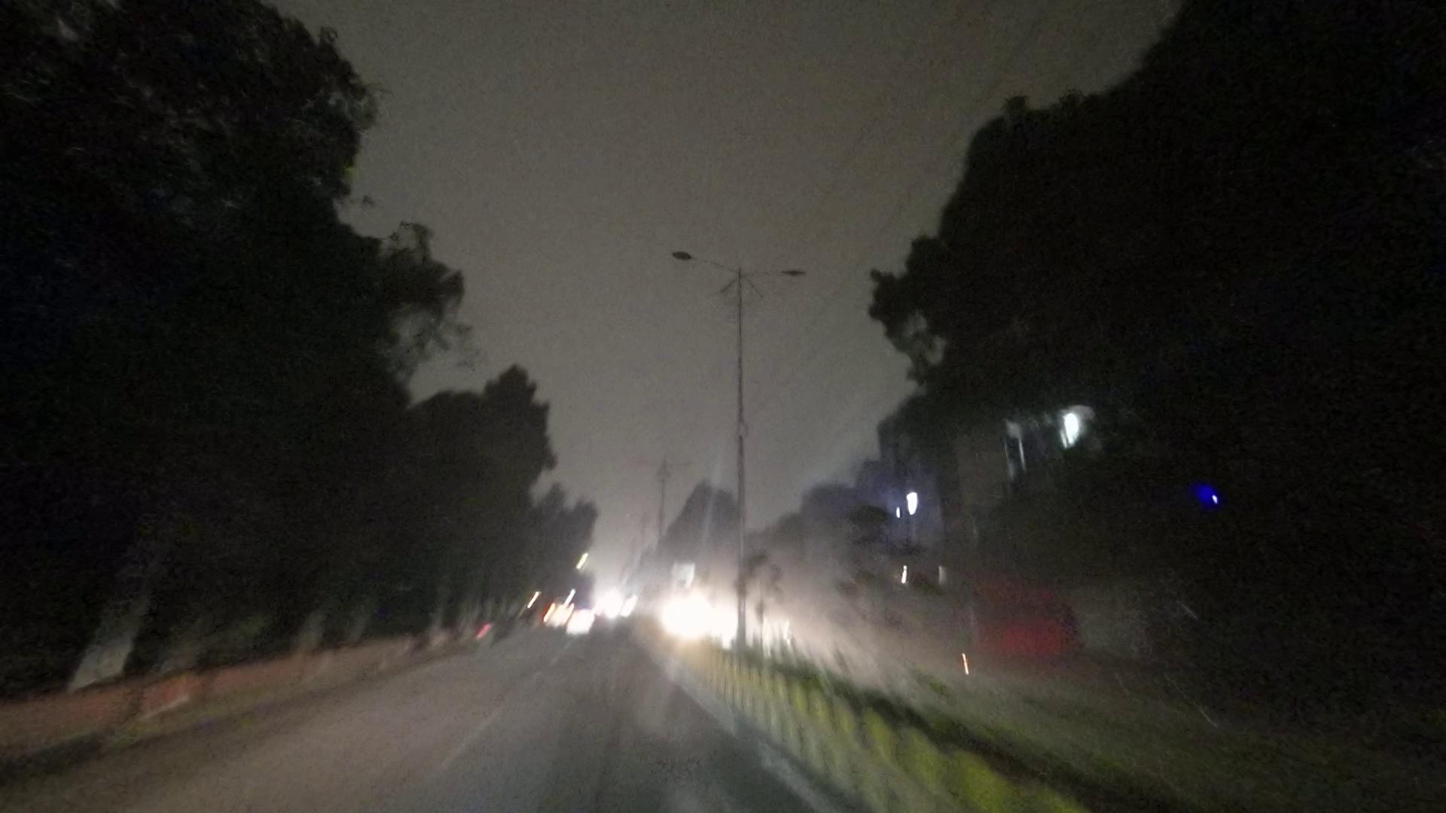streetlight: (671, 249, 736, 273), (744, 265, 809, 282)
